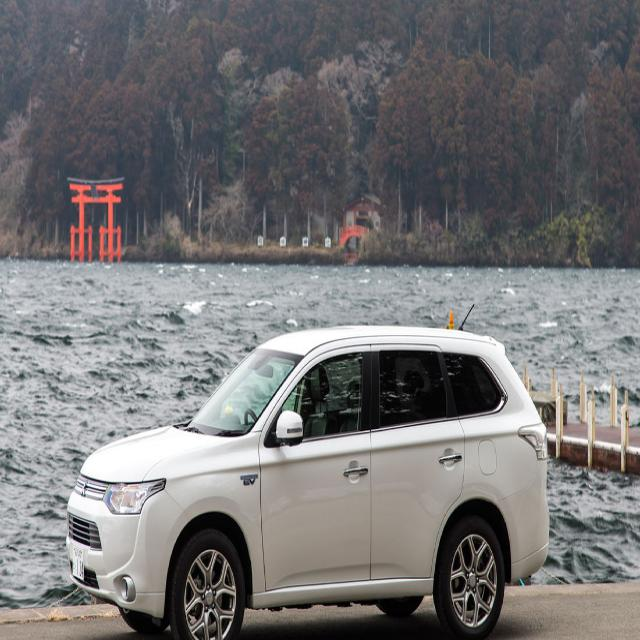light_vehicle: (65, 321, 550, 638)
